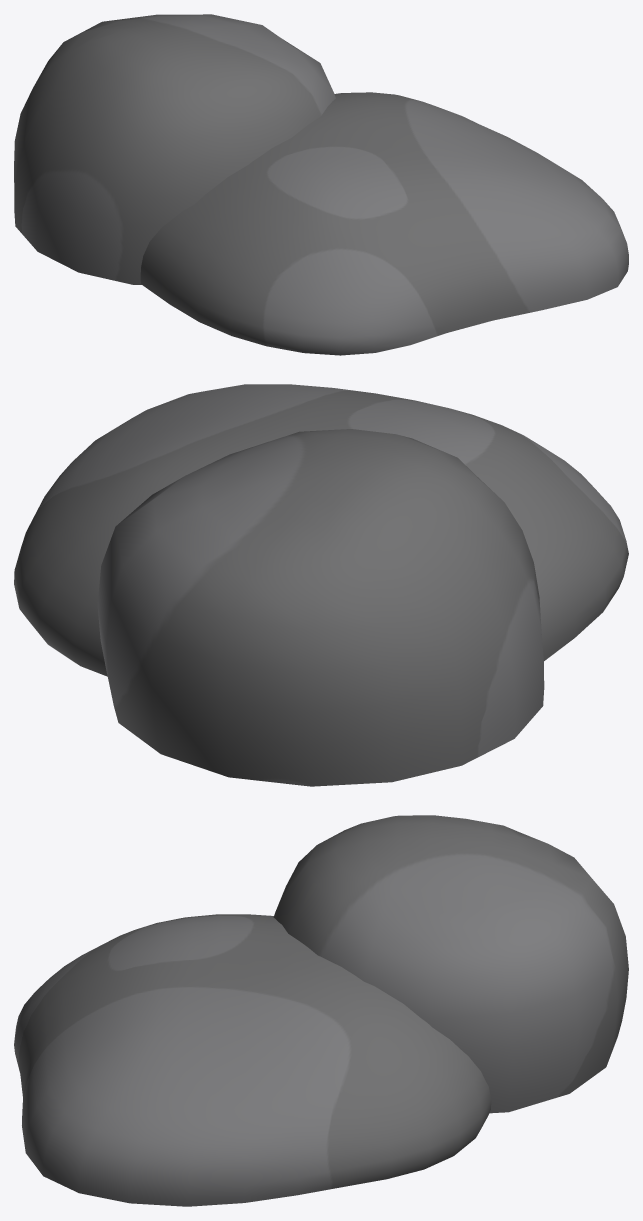
File: rock-sm.fbx
3 renders of one model, top to bottom at view 1: azimuth 30°, elevation 25°; view 2: azimuth 150°, elevation 25°; view 3: azimuth 270°, elevation 25°, orthographic. The views are drawn at different scales.
Visible parts, largest first — view 1: rocks-small; view 2: rocks-small; view 3: rocks-small.
Part boxes in pixels (bbox=[...]): rocks-small: bbox=[14, 14, 628, 355]; rocks-small: bbox=[14, 384, 628, 786]; rocks-small: bbox=[14, 815, 628, 1206].
Size of the model in its own units: 2.98 by 1.19 by 3.24.
